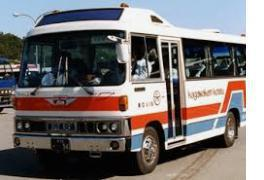bus: (12, 5, 247, 172)
